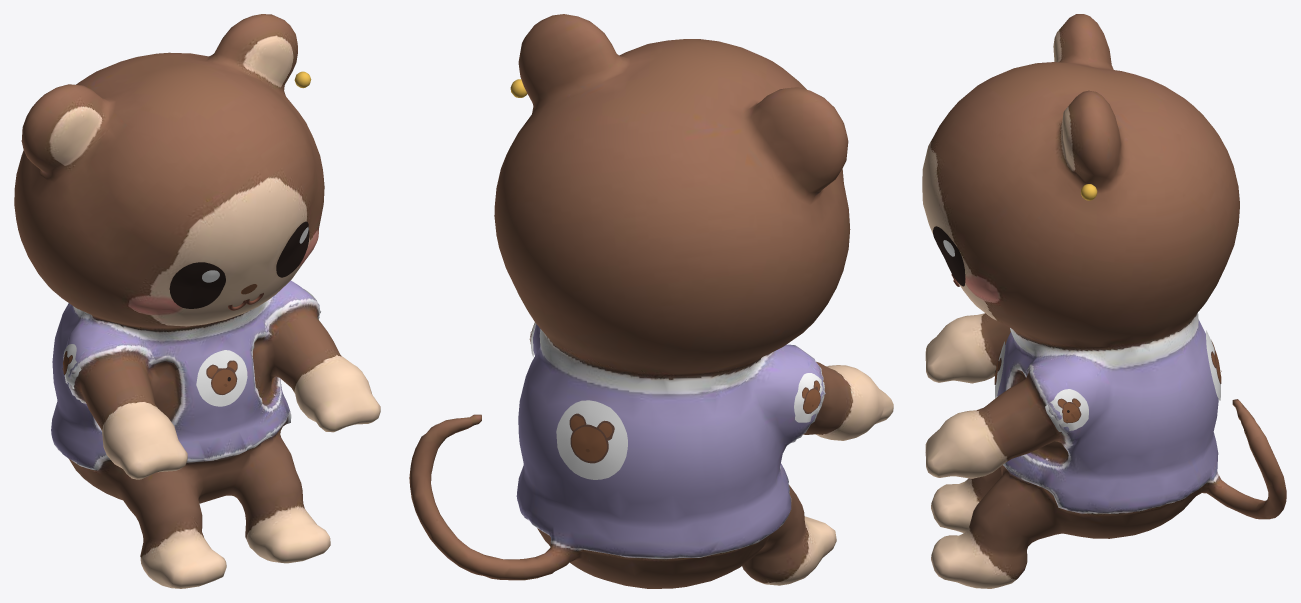
Rendered from monkey.glb.
The picture shows the model from 3 angles, left to right: view 1: azimuth 30°, elevation 25°; view 2: azimuth 150°, elevation 25°; view 3: azimuth 270°, elevation 25°; orthographic projection. The views are drawn at different scales.
Parts seen in each view (by area): view 1: chibi, face; view 2: chibi, face; view 3: chibi, face.
Part boxes in pixels (x1,y1,x2,y2): chibi: (14,14,380,588); face: (62,71,320,406); chibi: (409,14,893,588); face: (510,79,824,479); chibi: (922,14,1286,588); face: (933,184,1221,431).
Size of the model in its own units: 0.7182 by 1.18 by 0.7768.
Materials: 26 (1 with a texture image).
